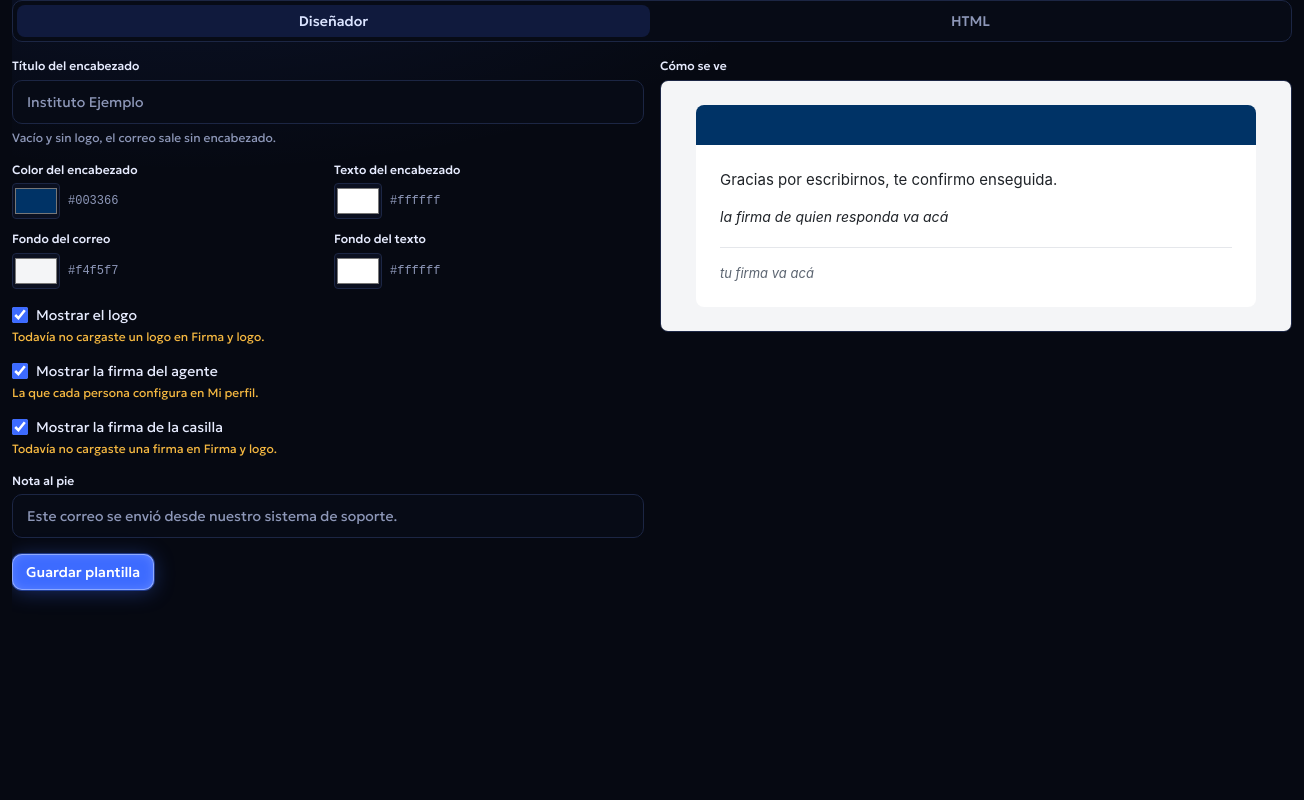
Scenario: EmailTemplatePanel › lists the placeholders an author can use
Click the button "HTML": [970, 21] box [654,5,1287,37]
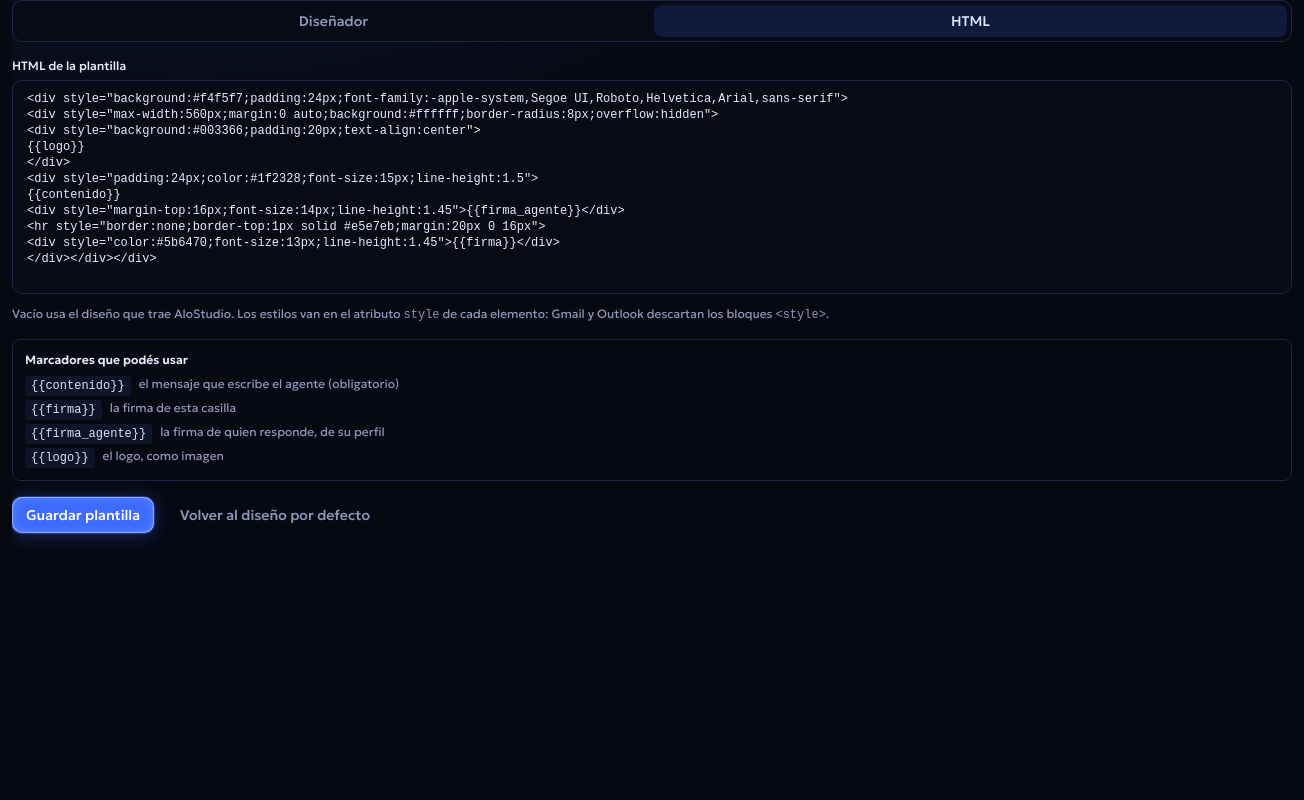
Now the text "{{contenido}}" is shown, box [25,376,131,396]
Now the text "{{firma}}" is shown, box [25,400,102,420]
Now the text "{{logo}}" is shown, box [25,448,95,468]
